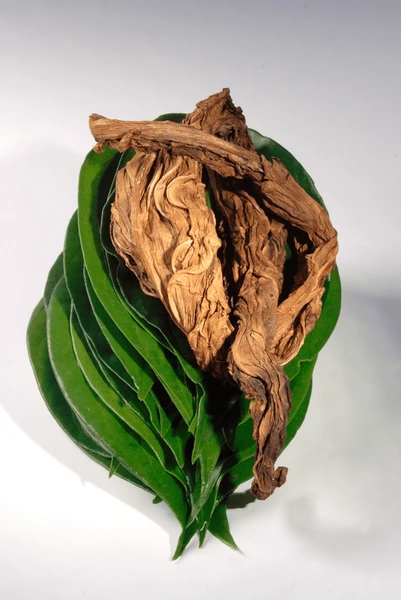bulathwita: (25, 89, 341, 564)
